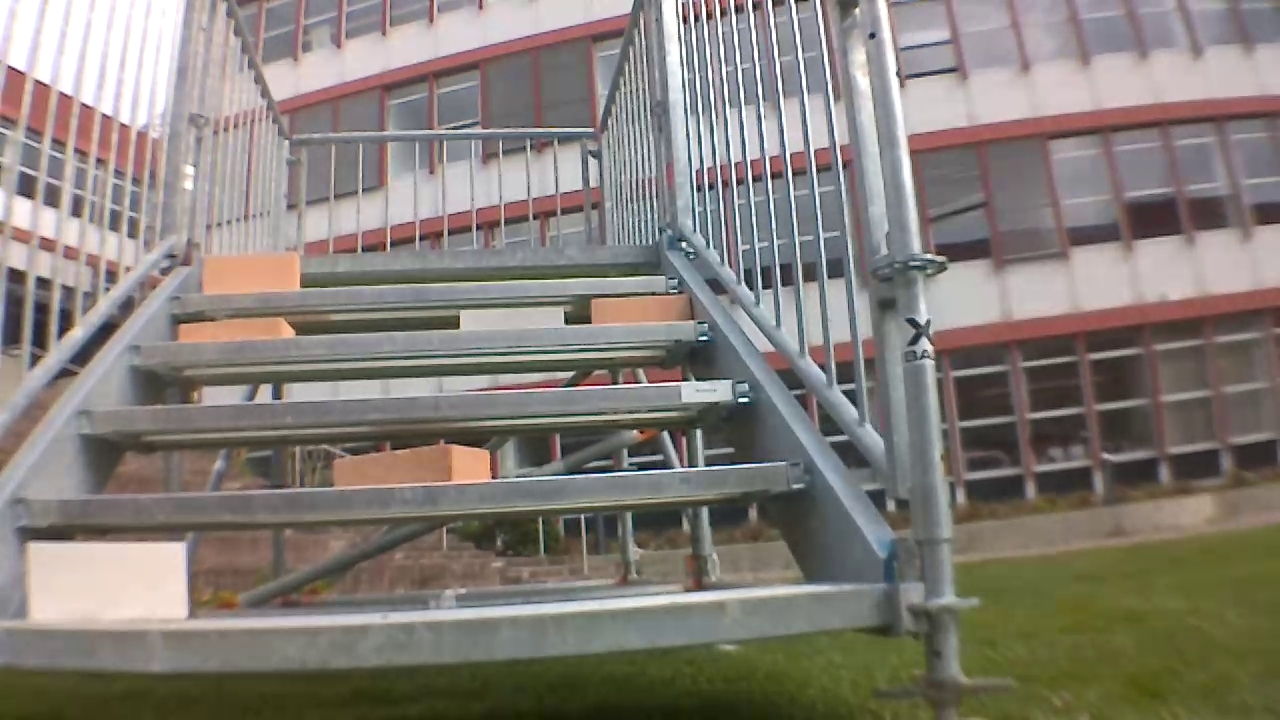brick: (27, 541, 186, 622), (335, 445, 489, 487), (204, 254, 298, 292), (178, 317, 296, 340), (592, 296, 690, 323), (459, 308, 561, 328)
edge: (0, 587, 886, 672), (15, 459, 814, 522), (76, 378, 756, 430), (126, 321, 713, 362), (169, 274, 682, 308), (181, 244, 658, 268)
stairs: (3, 4, 989, 714)
steps: (10, 234, 897, 685)
